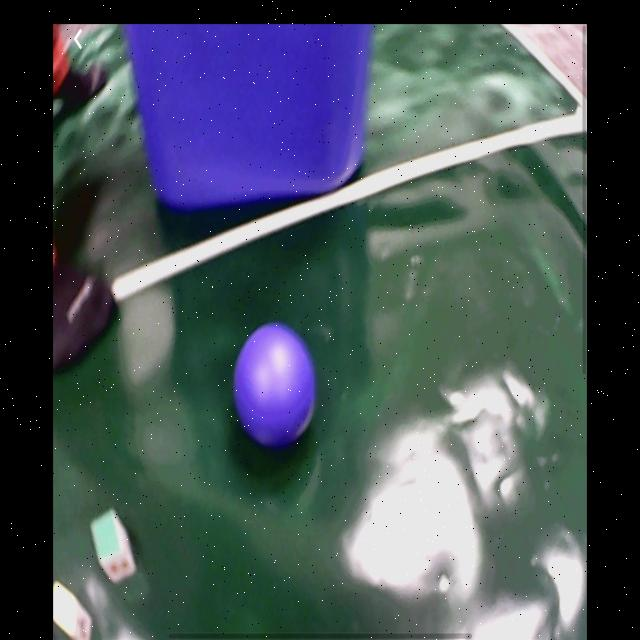ball: (235, 324, 315, 451)
